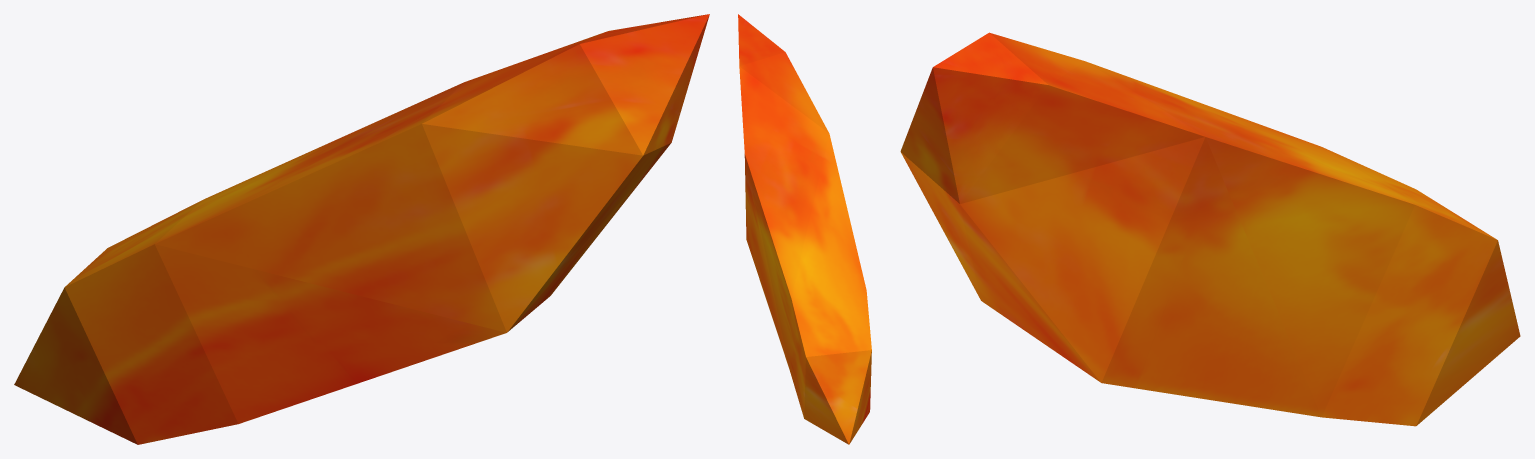
File: Island_2_Tree_1_Leaf_10.gltf
3 renders of one model, left to right at view 1: azimuth 30°, elevation 25°; view 2: azimuth 150°, elevation 25°; view 3: azimuth 270°, elevation 25°, orthographic. The views are drawn at different scales.
Visible parts, largest first — view 1: Island_2_Tree_1_Leaf_10; view 2: Island_2_Tree_1_Leaf_10; view 3: Island_2_Tree_1_Leaf_10.
Part boxes in pixels (x1,y1,x2,y2): Island_2_Tree_1_Leaf_10: (14,14,709,444); Island_2_Tree_1_Leaf_10: (738,14,871,444); Island_2_Tree_1_Leaf_10: (900,32,1520,426).
Size of the model in its own units: 1.26 by 1.26 by 1.31.
1 material, 1 textured.
